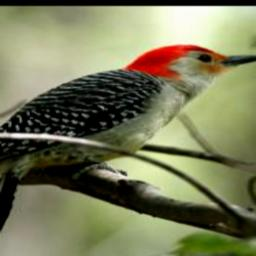Woodpecker: (0, 43, 256, 243)
